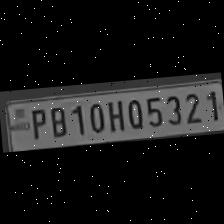0: (84, 98, 106, 133)
1: (67, 100, 88, 136), (202, 87, 221, 122)
2: (180, 89, 204, 125)
3: (162, 90, 182, 126)
5: (140, 92, 164, 128)
B: (45, 102, 69, 138)
H: (104, 95, 126, 132)
P: (26, 103, 48, 140)
Q: (124, 94, 144, 130)
